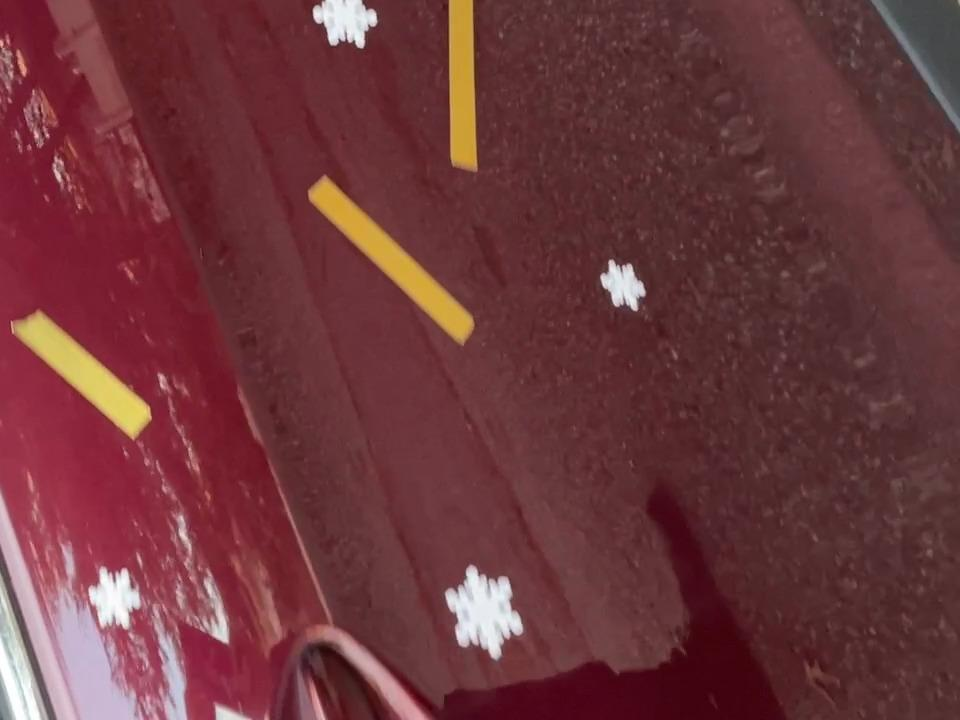dent: (443, 555, 534, 662), (83, 561, 158, 639), (300, 0, 390, 60), (589, 253, 654, 321)
scratch: (303, 173, 487, 357), (0, 302, 163, 449), (434, 0, 493, 182), (0, 0, 23, 2)
